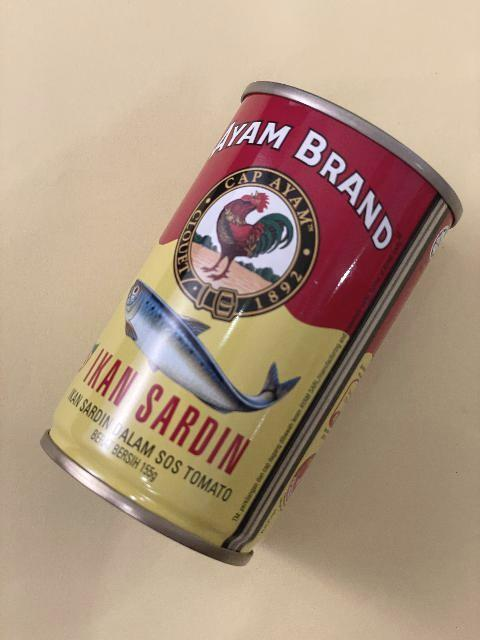foodcan: (38, 77, 464, 568)
